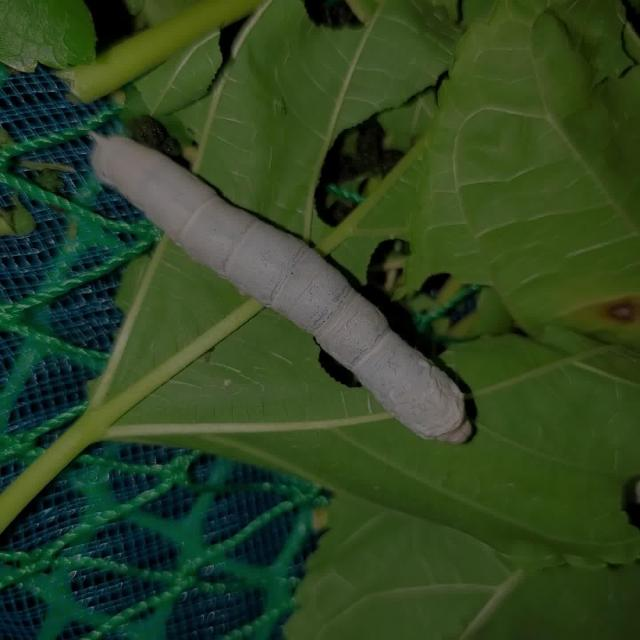Healthy: (73, 101, 510, 539)
